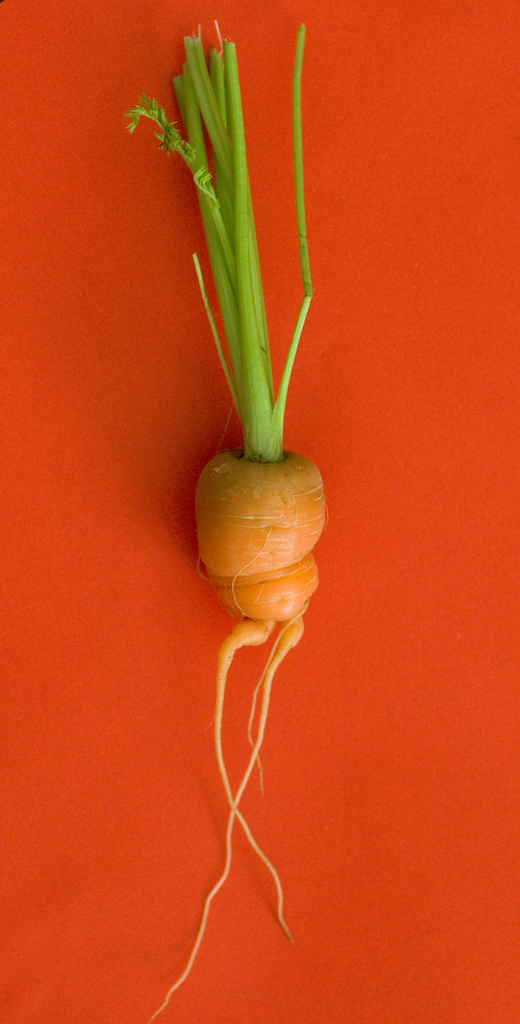Carrot: (119, 12, 328, 1022)
